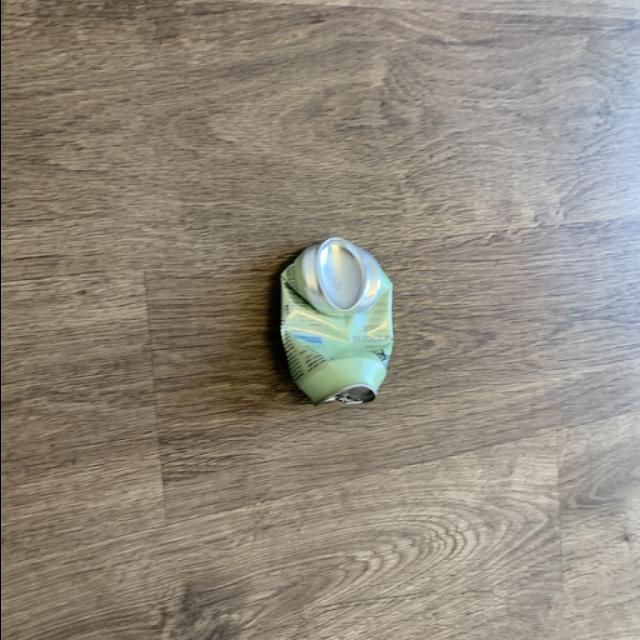litter: (268, 219, 420, 440)
